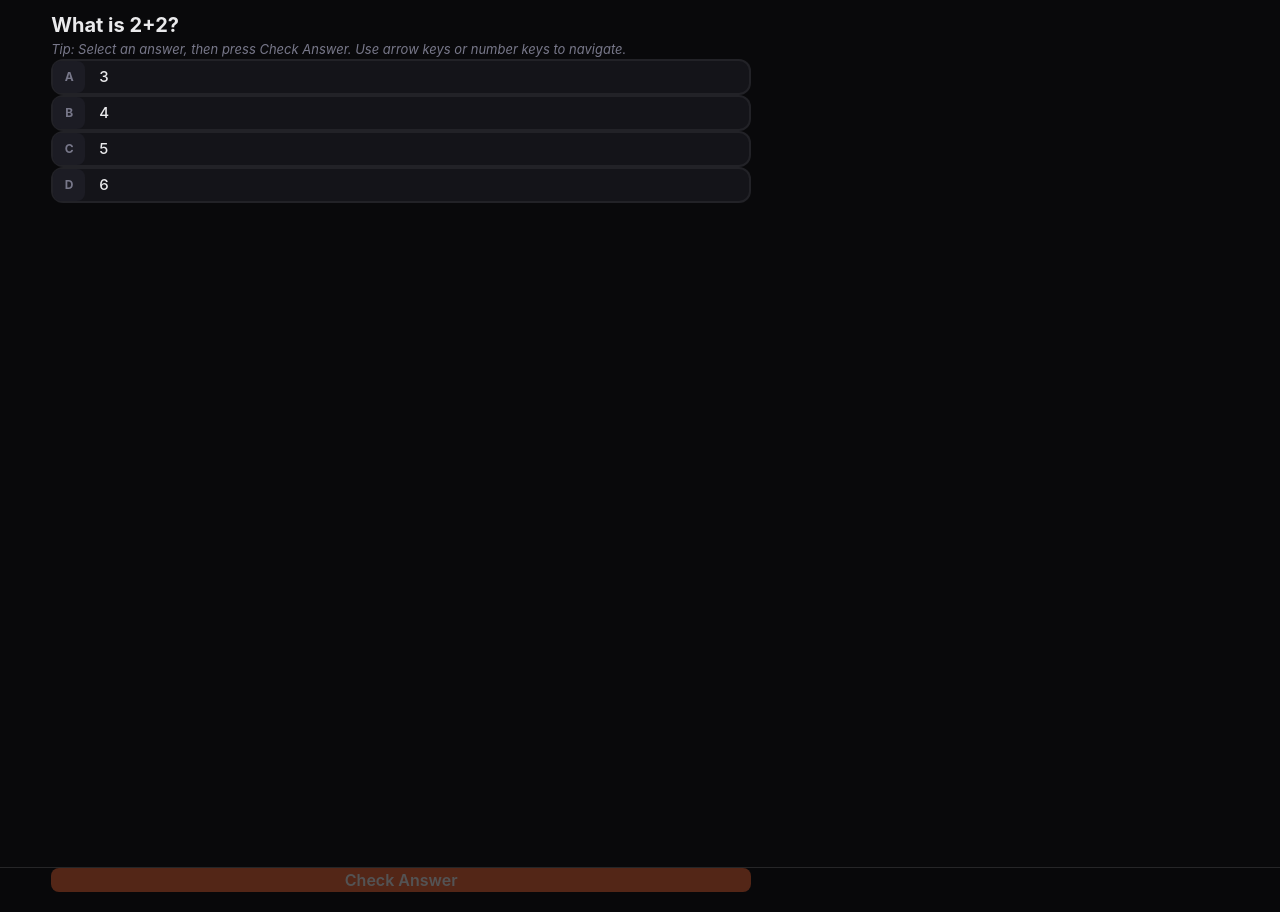
Test: Quiz component › reveals correct answer after 2 wrong attempts
# First wrong attempt
Click the radio button labelled "A 3".
click(69, 77)  # box [51,59,751,95]
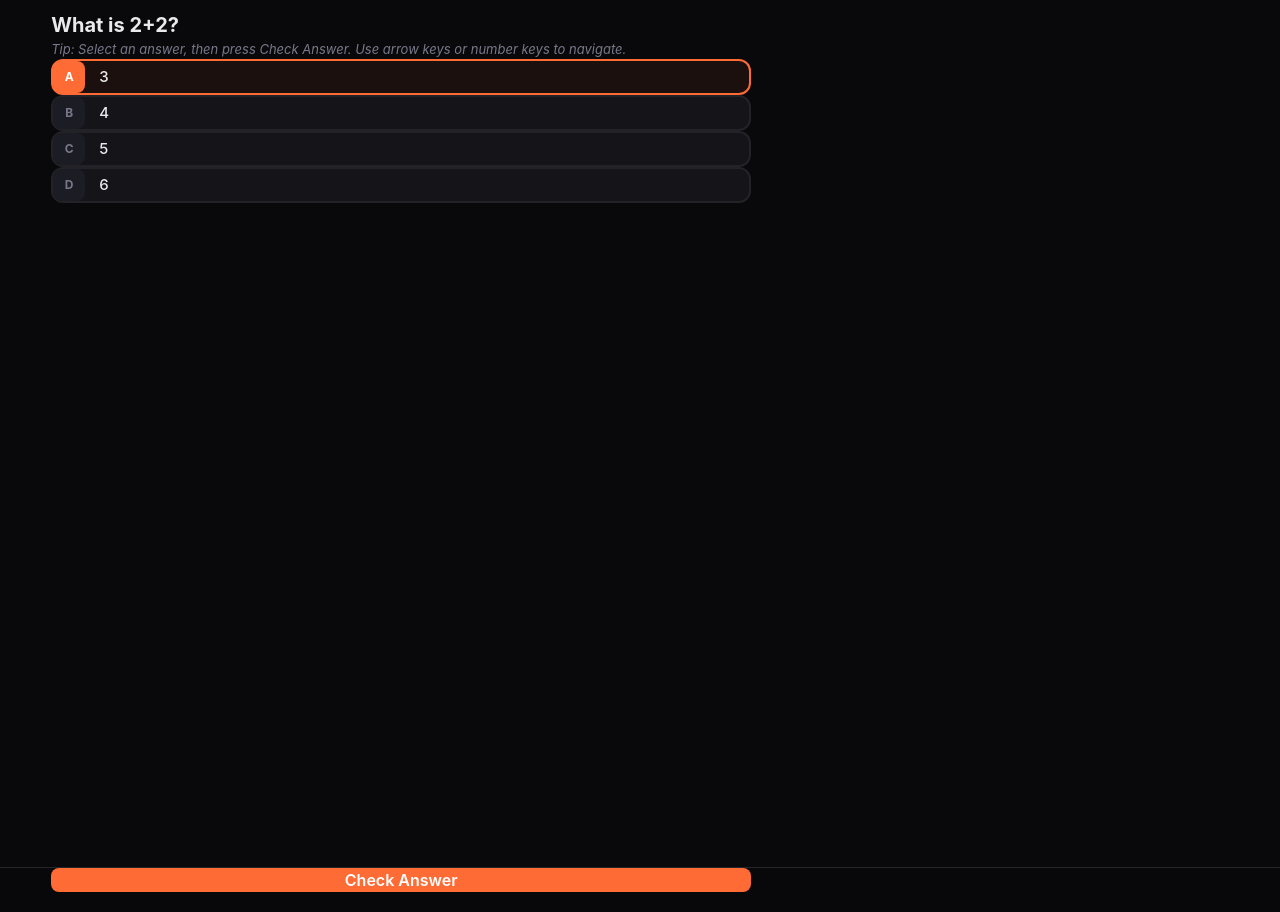
Click the button "Check Answer".
click(401, 880)  # box [51,868,751,892]
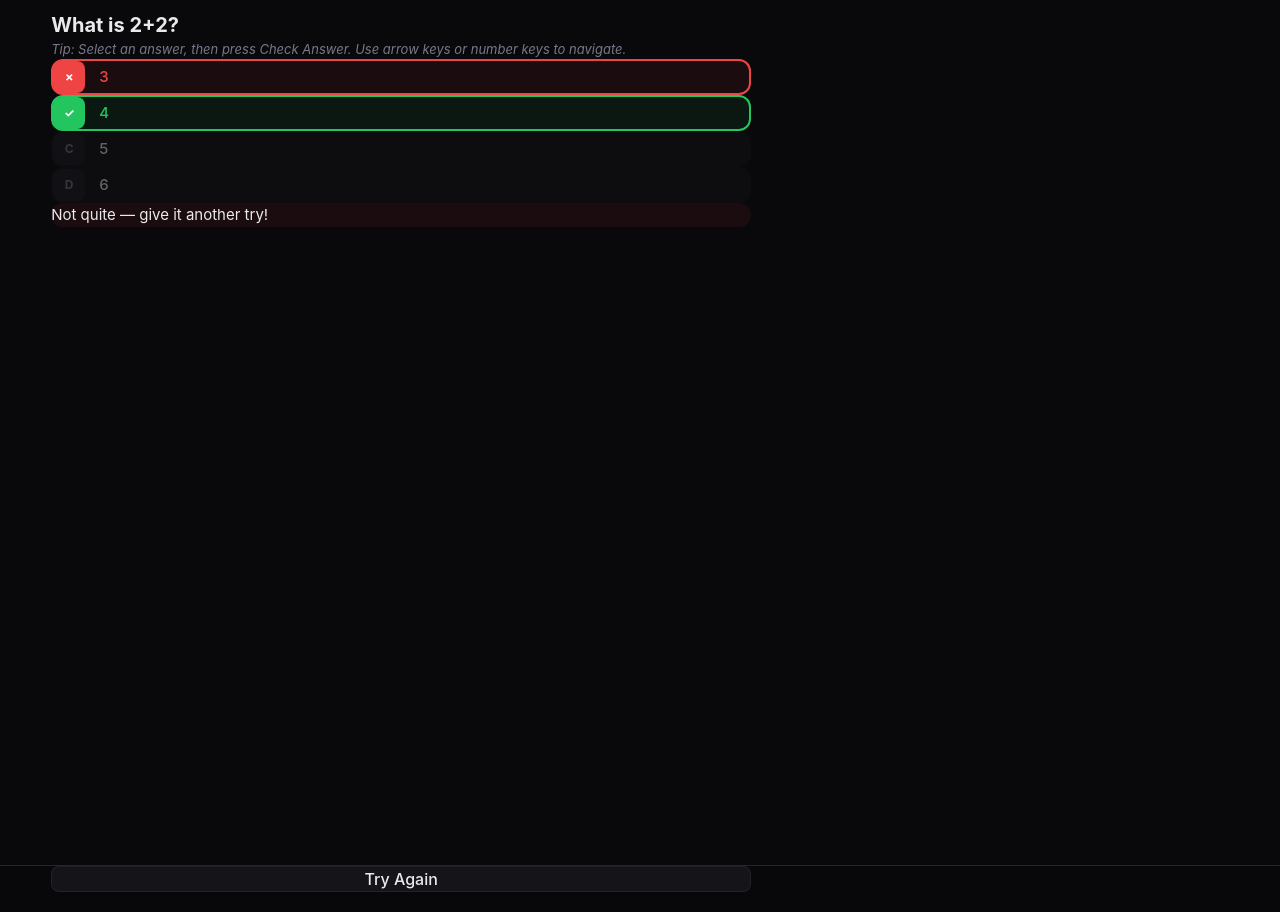
Click the button "Try Again".
click(401, 879)  # box [51,866,751,892]
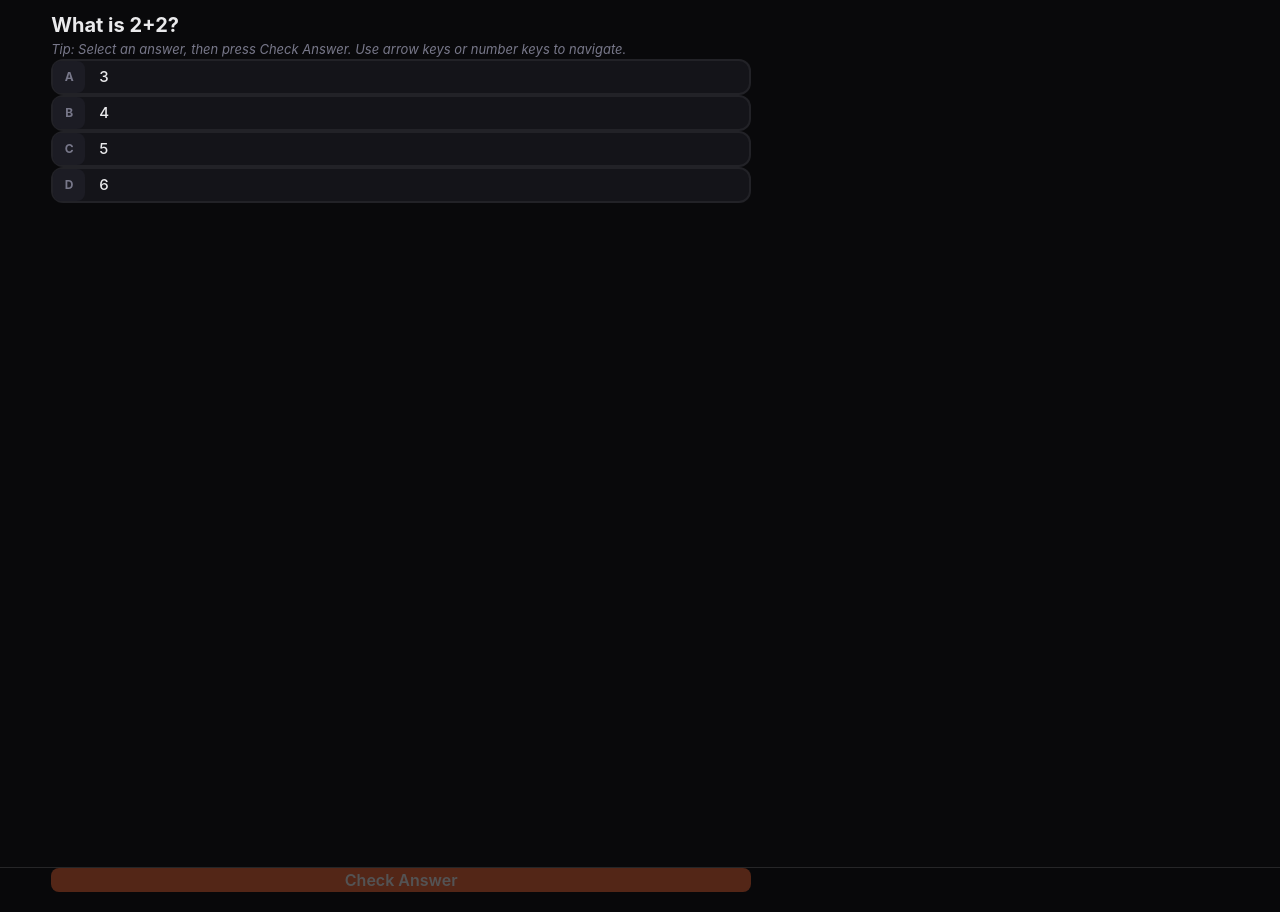
# Second wrong attempt
Click the radio button labelled "C 5".
click(69, 149)  # box [51,131,751,167]
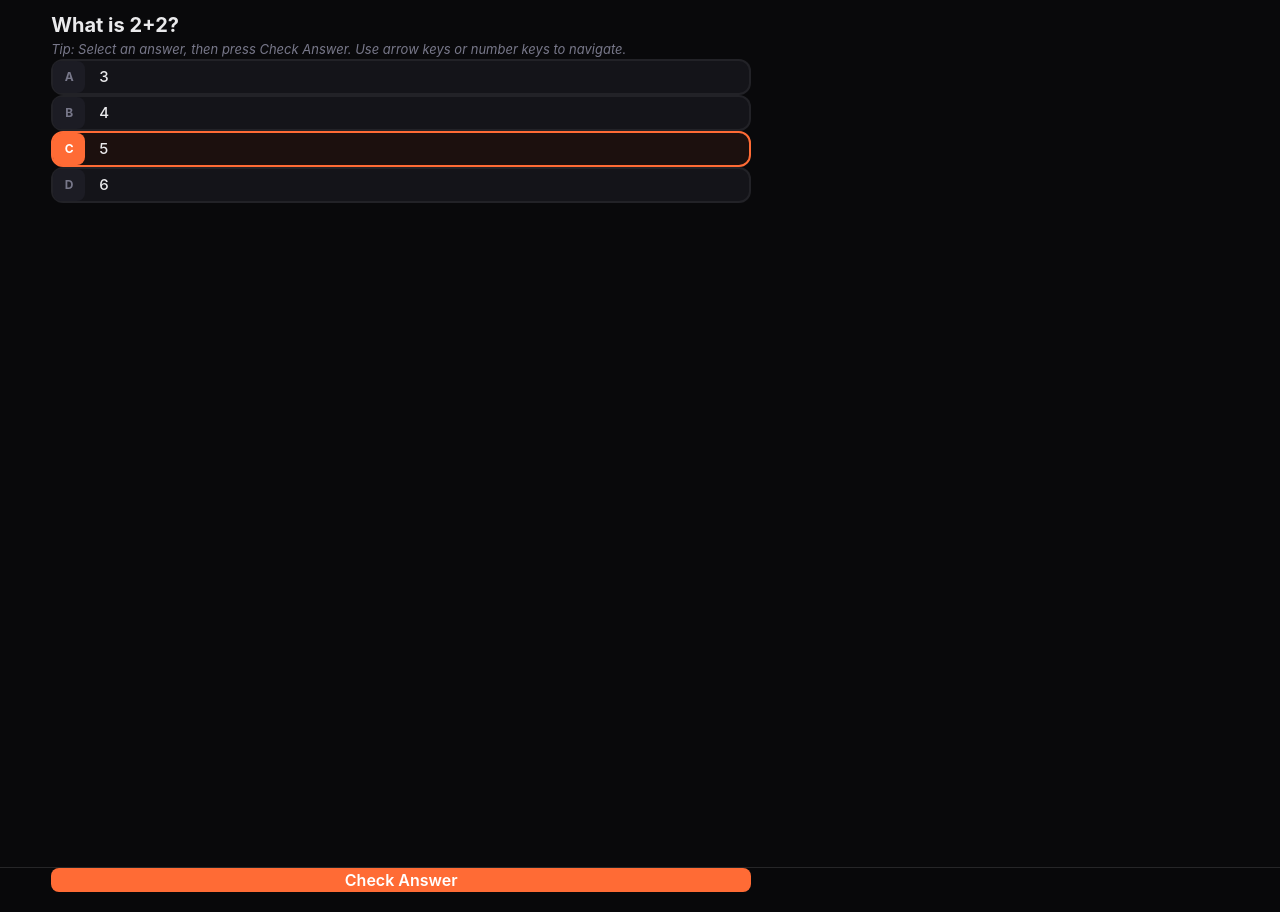
Click the button "Check Answer".
click(401, 880)  # box [51,868,751,892]
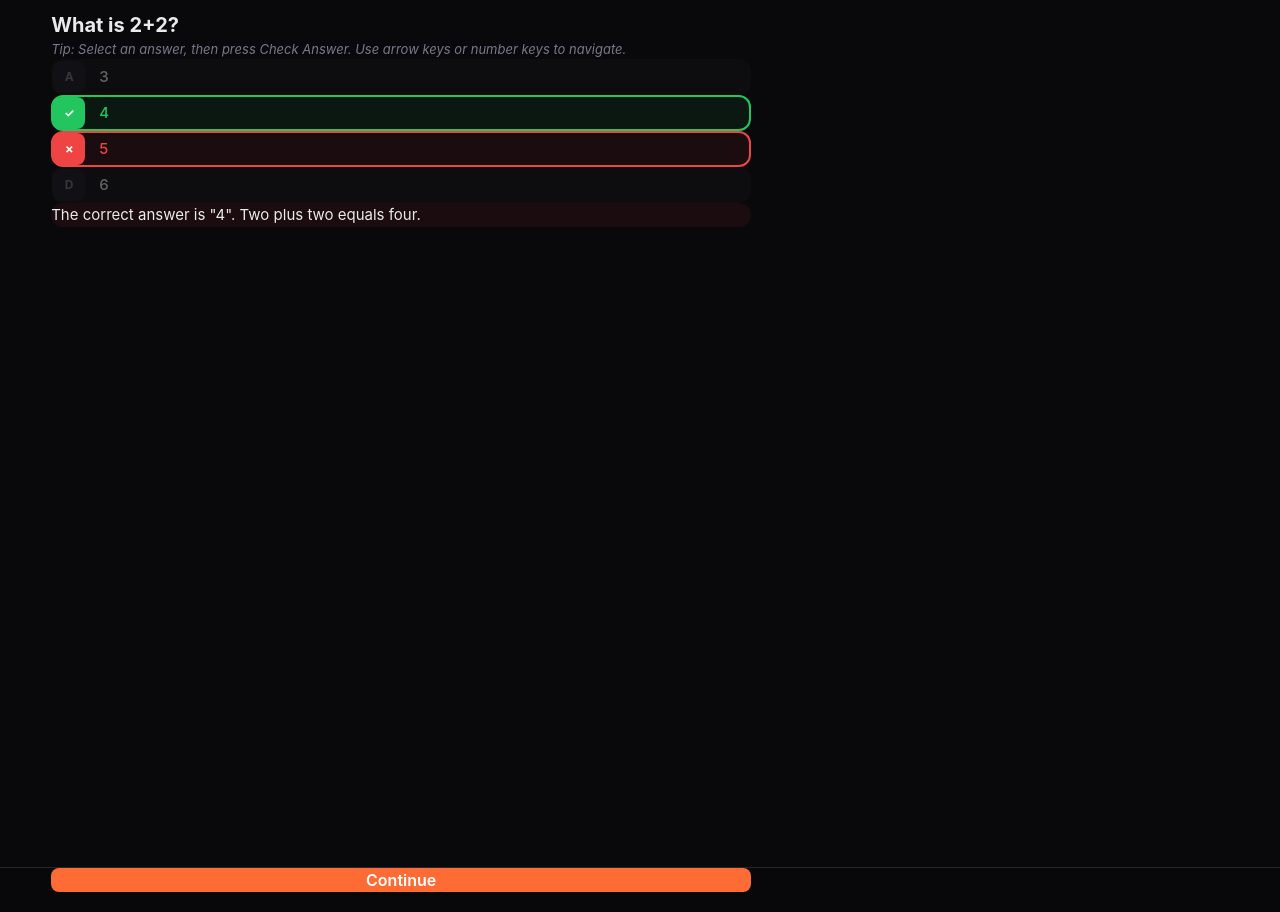
Now the text "The correct answer is \"4\". Two plus two equals four." is shown, box [51,205,421,224]
